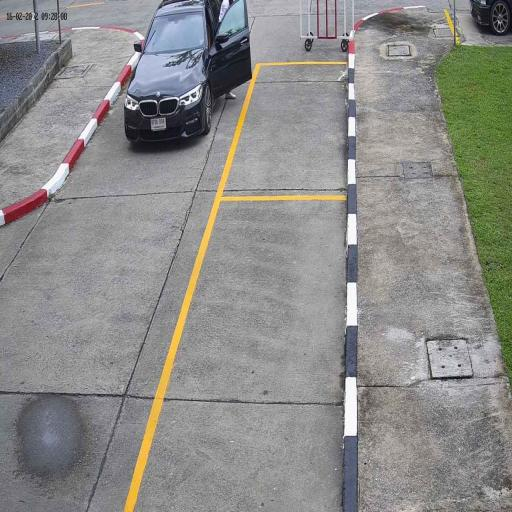car: (122, 0, 215, 149)
